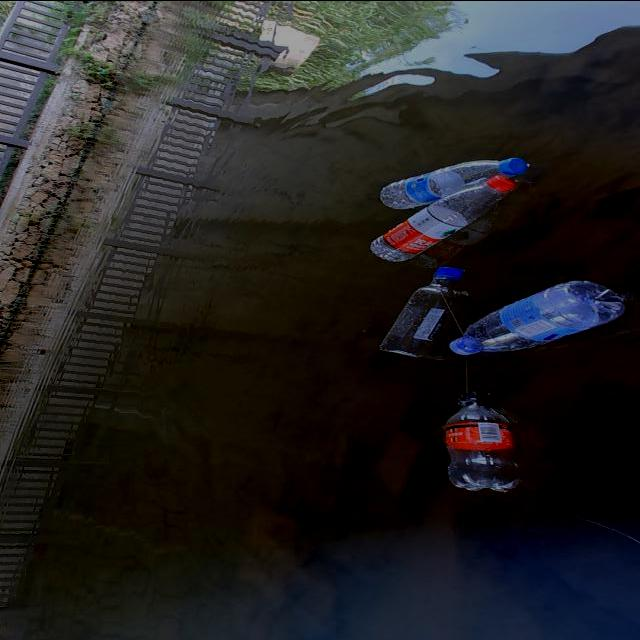bottle: (447, 274, 629, 360), (364, 176, 514, 268), (369, 146, 530, 209), (436, 382, 520, 497), (374, 262, 468, 363)
